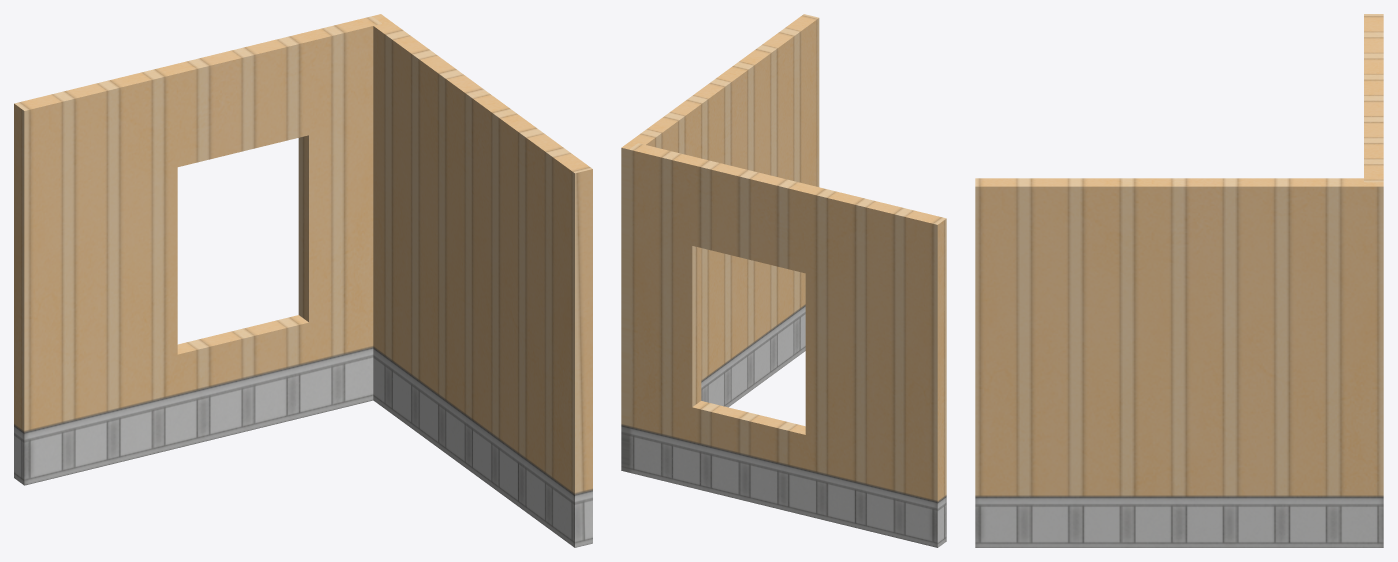
Rendered from Wall_8_Corner_D.fbx.
3 views of the same model, side by side, from view 1: azimuth 30°, elevation 25°; view 2: azimuth 150°, elevation 25°; view 3: azimuth 270°, elevation 25° (orthographic). The views are drawn at different scales.
Visible parts, largest first — view 1: polySurface61; view 2: polySurface61; view 3: polySurface61.
Part boxes in pixels (<box>): polySurface61: <box>14,14,592,547</box>; polySurface61: <box>621,14,946,547</box>; polySurface61: <box>975,14,1383,547</box>.
Size of the model in its own units: 4.1 by 4 by 4.1.
